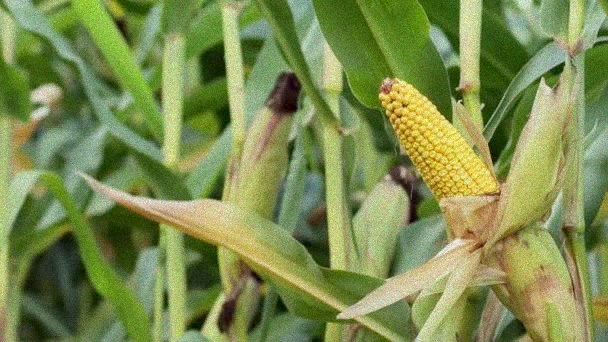corn: (373, 78, 516, 246)
corn_plant: (204, 63, 313, 288)
